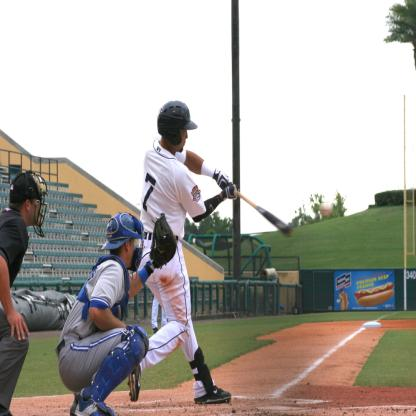Helmet: (102, 212, 144, 281), (11, 172, 50, 239), (152, 99, 194, 153)
